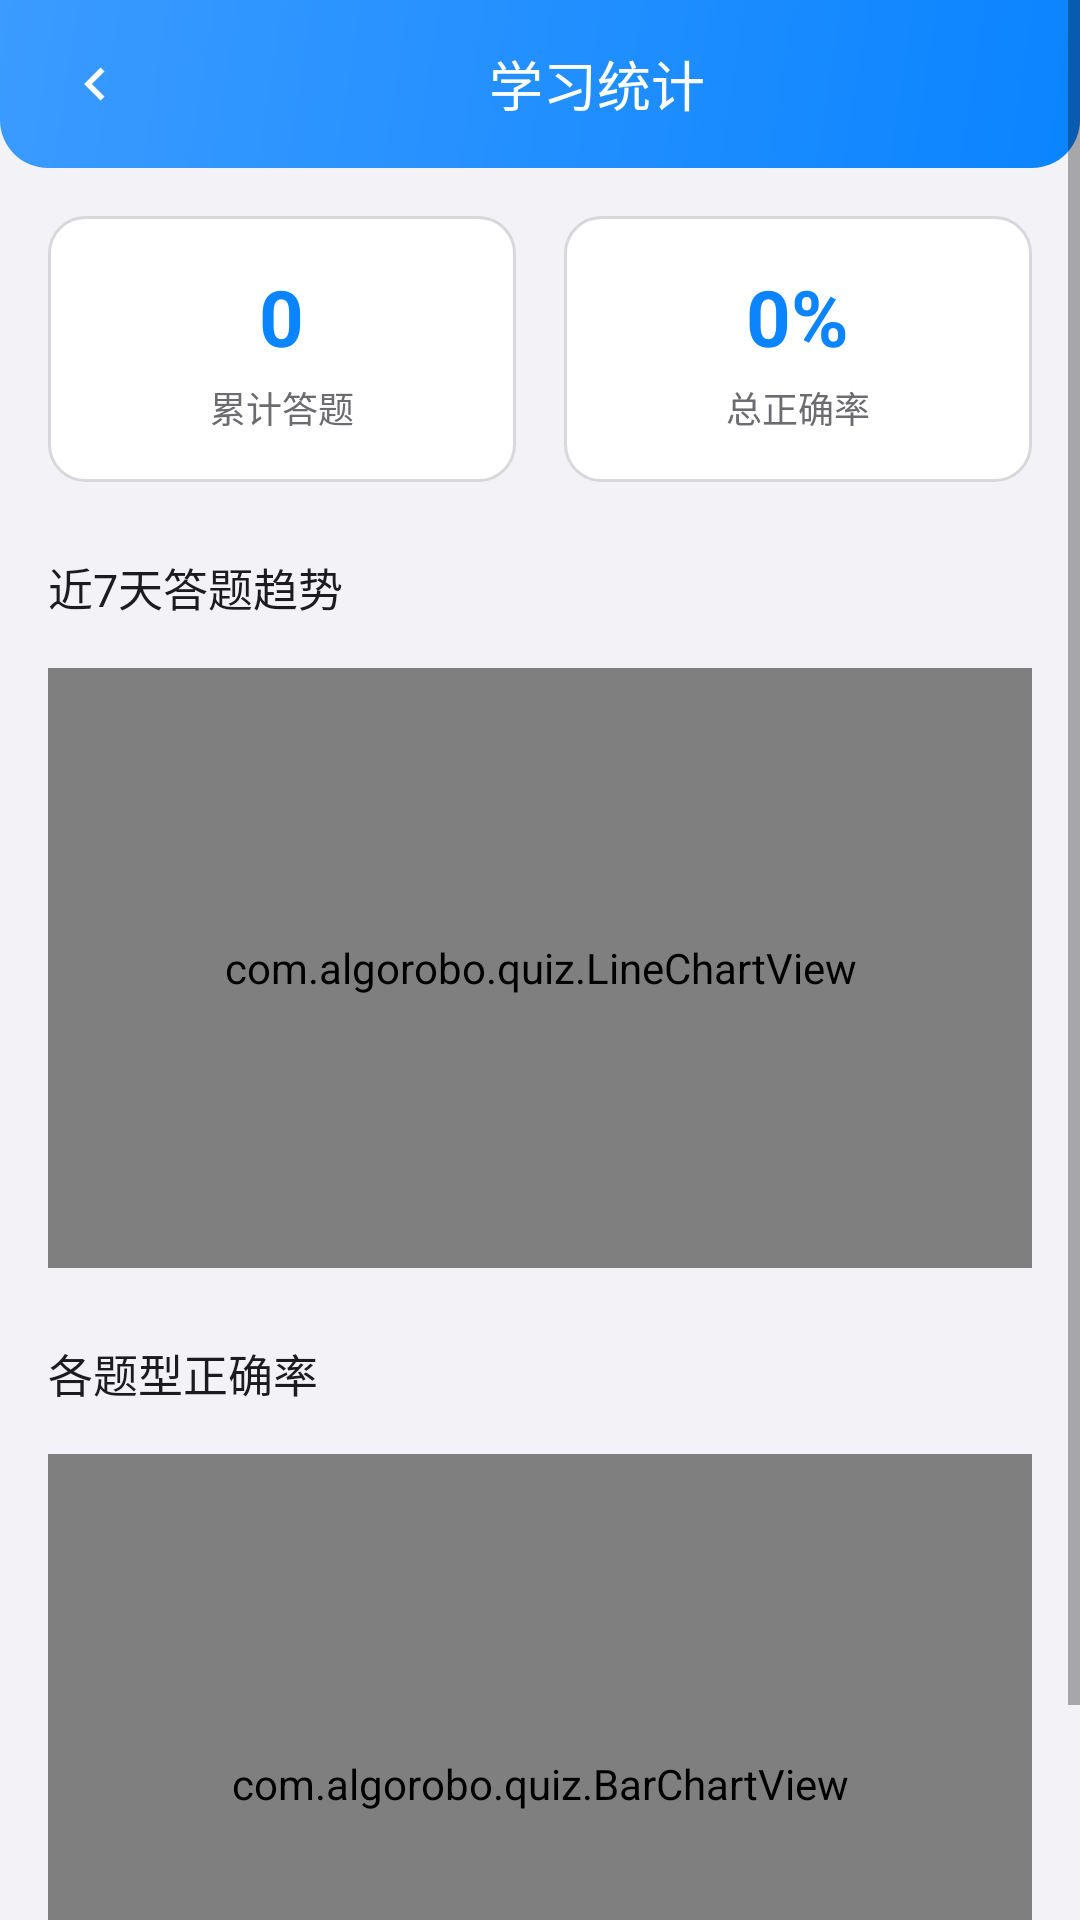

Where to tap for icons on this 1080px x 1920px app screen, as (x=x, y=y):
返回: (x=94, y=84)
